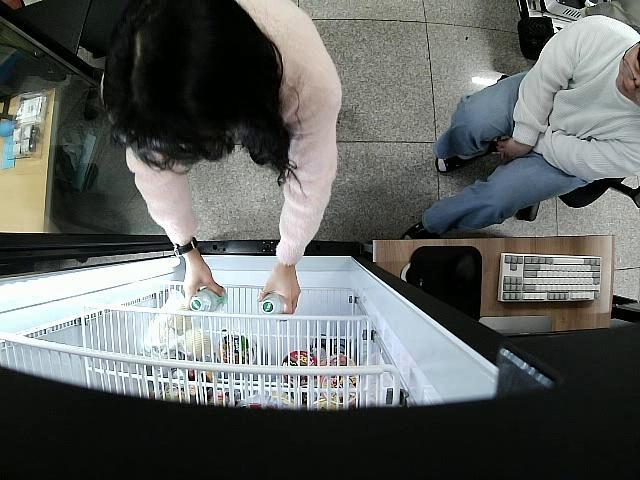18_trevi: (190, 286, 227, 313), (260, 290, 286, 316)
